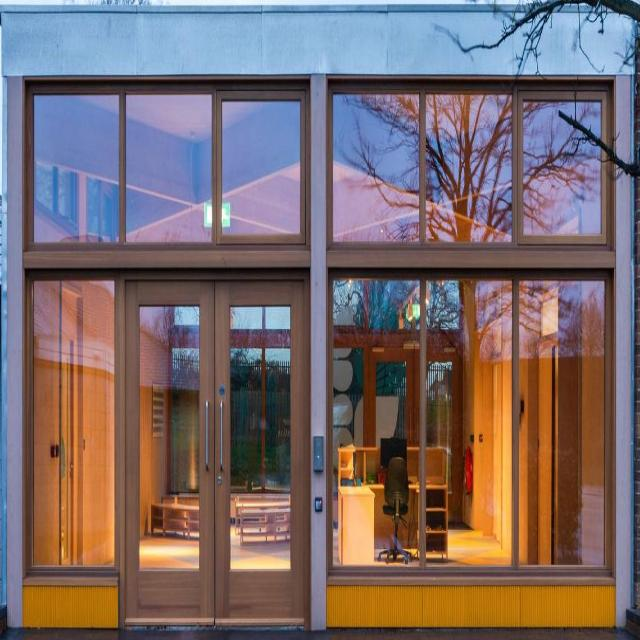door: (120, 271, 310, 622)
window: (327, 267, 608, 568), (330, 84, 606, 241), (27, 83, 300, 235), (29, 272, 113, 567)
